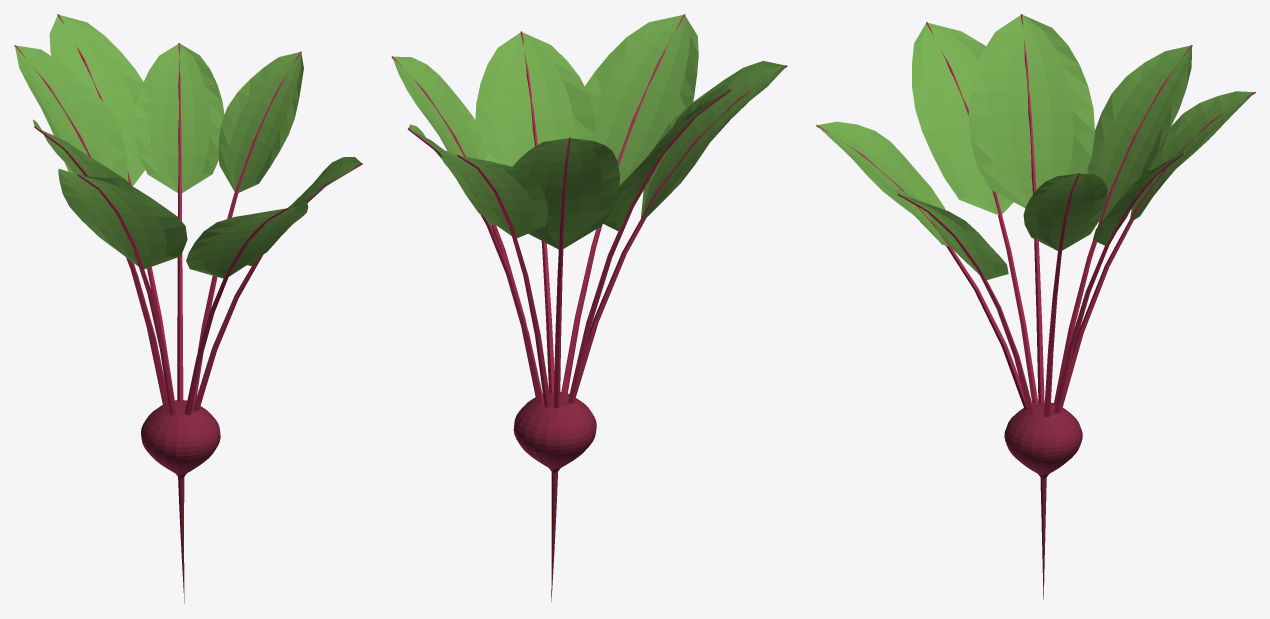
The model's file is beetroot_harvest_v20.glb.
3 renders of one model, left to right at view 1: azimuth 30°, elevation 25°; view 2: azimuth 150°, elevation 25°; view 3: azimuth 270°, elevation 25°, orthographic. The views are drawn at different scales.
Parts seen in each view (by area): view 1: plant; view 2: plant; view 3: plant.
Part boxes in pixels (x1,y1,x2,y2): plant: (14,14,362,603); plant: (391,14,787,601); plant: (816,14,1255,599).
Bounding box in the file's own units: 0.3071 × 0.5118 × 0.3956.
1 material, 1 textured.
